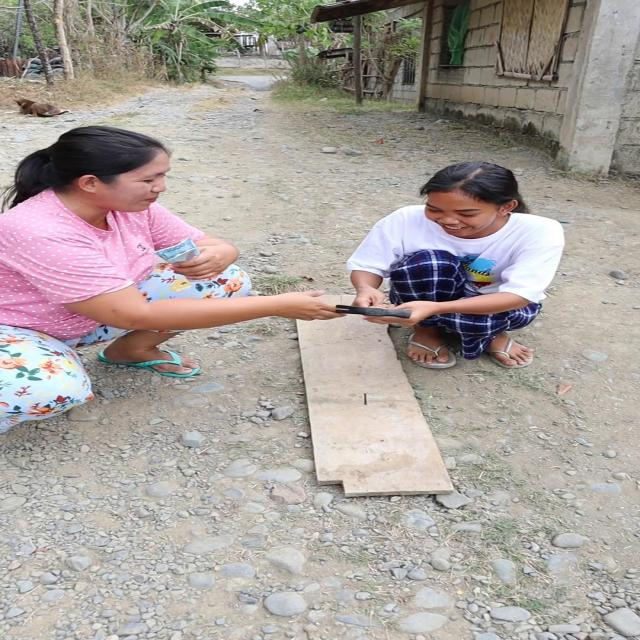hammer: (330, 302, 415, 322)
